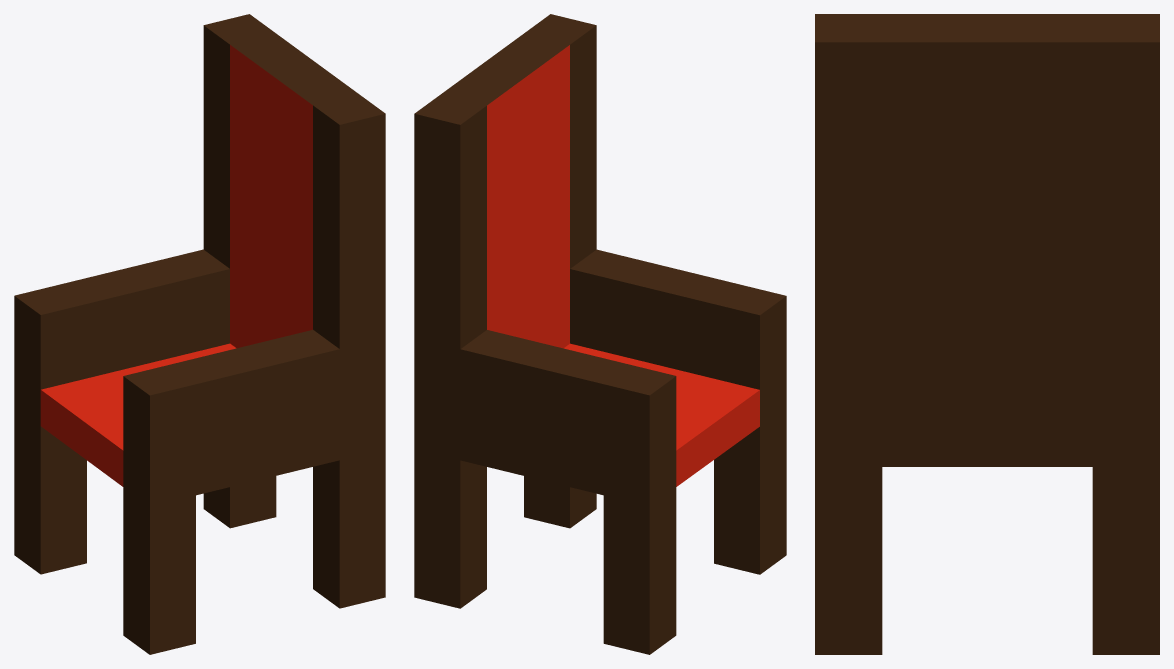
The model's file is Throne.fbx.
The picture shows the model from 3 angles, left to right: view 1: azimuth 30°, elevation 25°; view 2: azimuth 150°, elevation 25°; view 3: azimuth 270°, elevation 25°; orthographic projection. The views are drawn at different scales.
Parts seen in each view (by area): view 1: Cube; view 2: Cube; view 3: Cube.
Boxes of the visible parts, x1,y1,x2,y2 form: Cube: [14, 14, 385, 654]; Cube: [414, 14, 786, 654]; Cube: [815, 14, 1159, 654].
Size of the model in its own units: 71.08 by 139 by 71.08.
